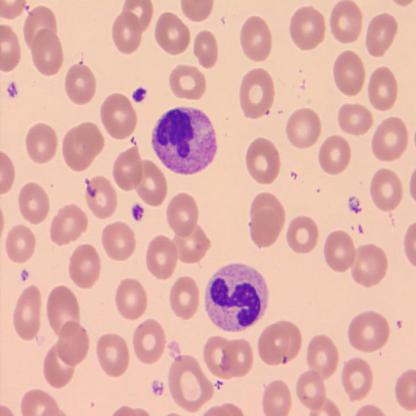Segmented neutrophil: (149, 104, 220, 176), (202, 260, 269, 334)
